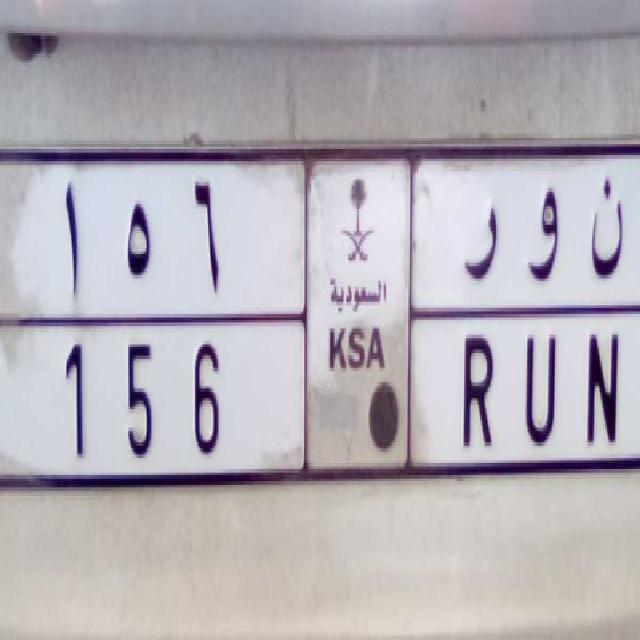license_plate: (31, 307, 636, 497)
